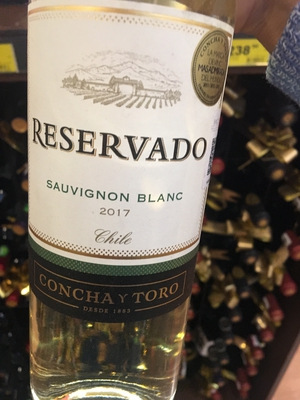reservado sauvignon blanc: (17, 3, 236, 400)
